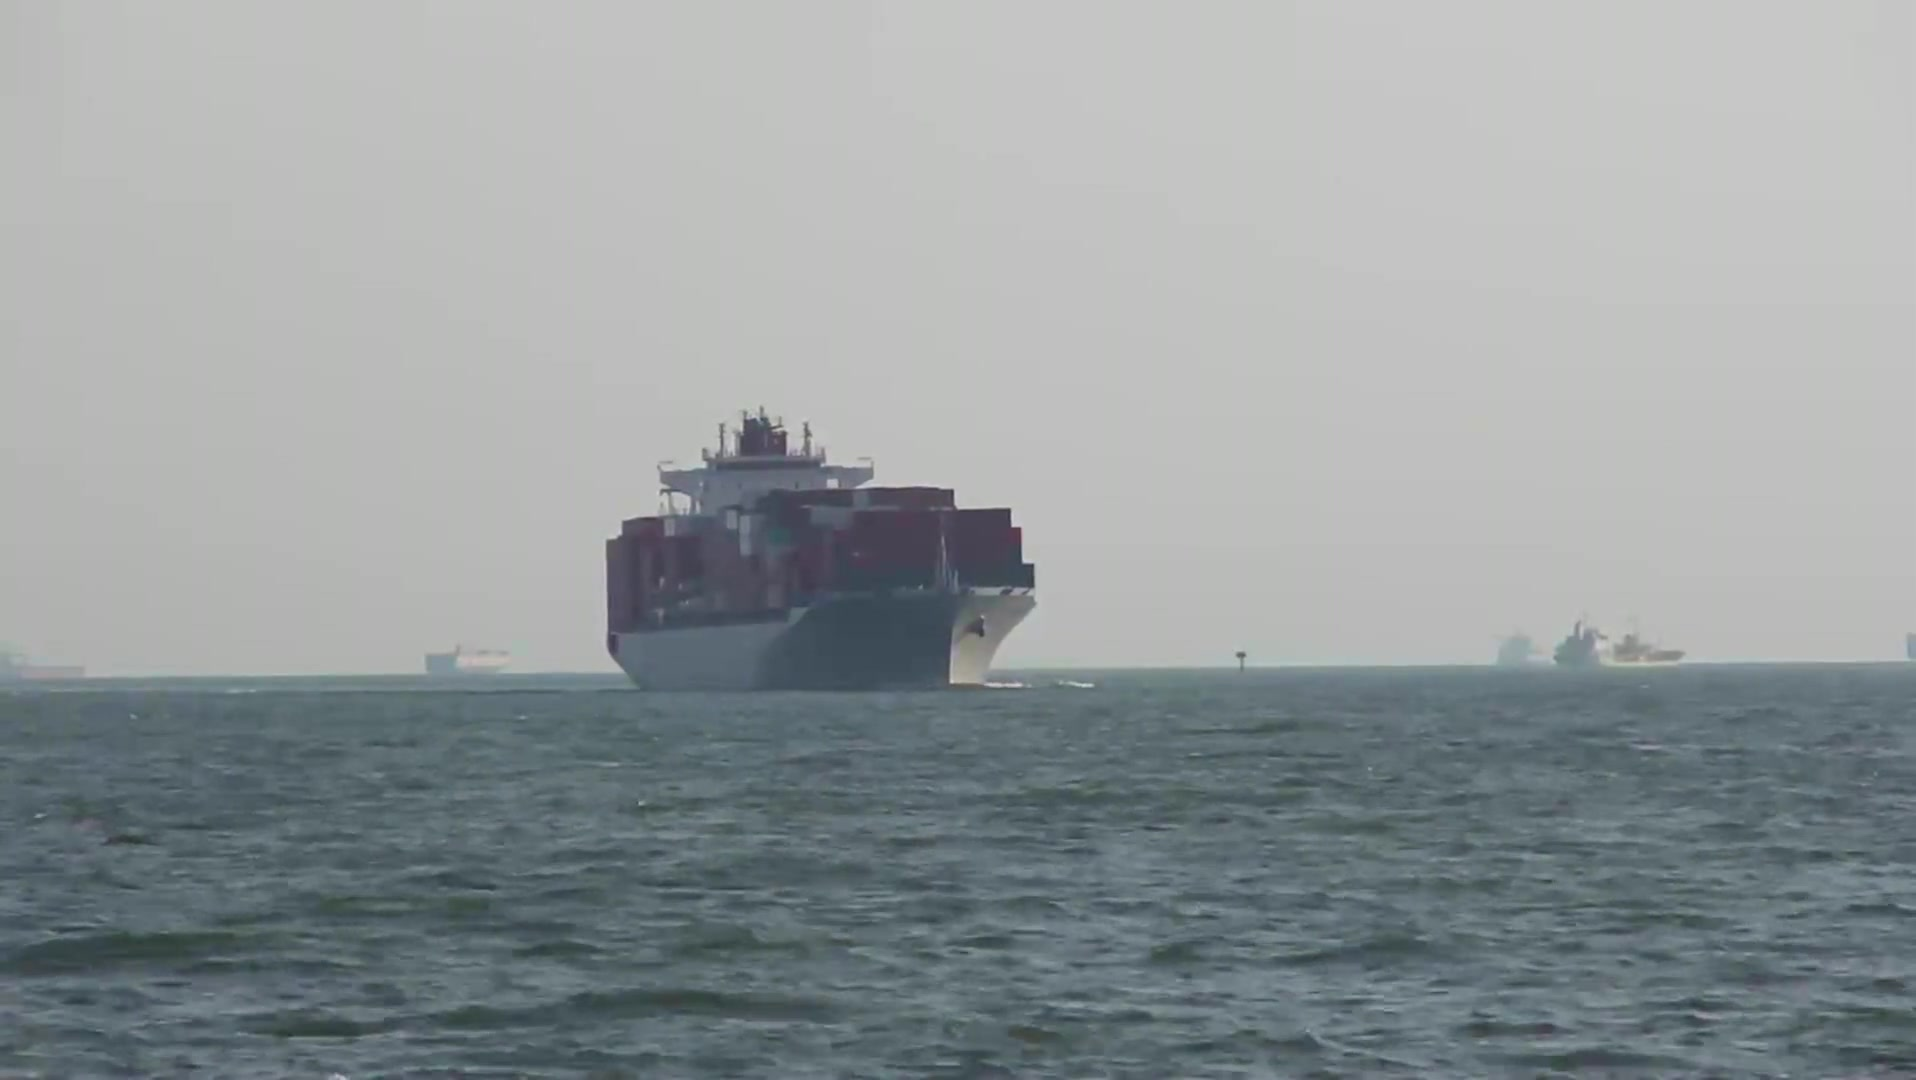boat: (596, 416, 1040, 695), (1498, 624, 1692, 688), (418, 641, 528, 681), (1, 650, 89, 695)
